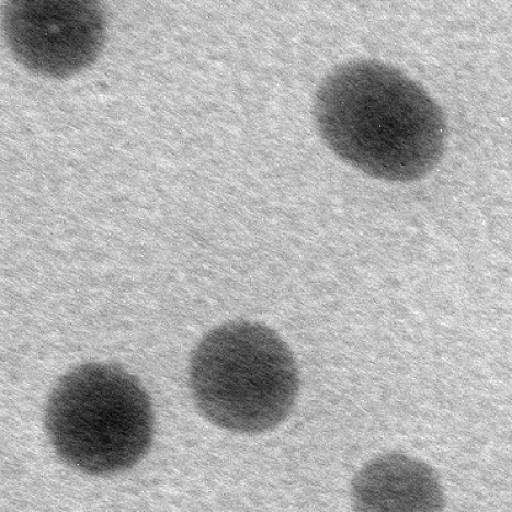Nanoparticles: (187, 313, 305, 438), (42, 354, 160, 477), (313, 48, 413, 158), (0, 0, 113, 83), (365, 97, 454, 193), (346, 448, 452, 512)
